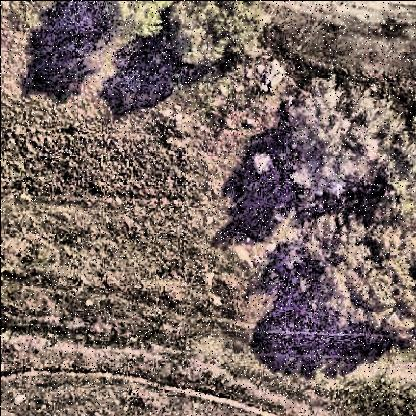tree-top: (301, 211, 416, 344), (284, 85, 404, 193), (163, 2, 264, 77), (108, 2, 170, 48)
